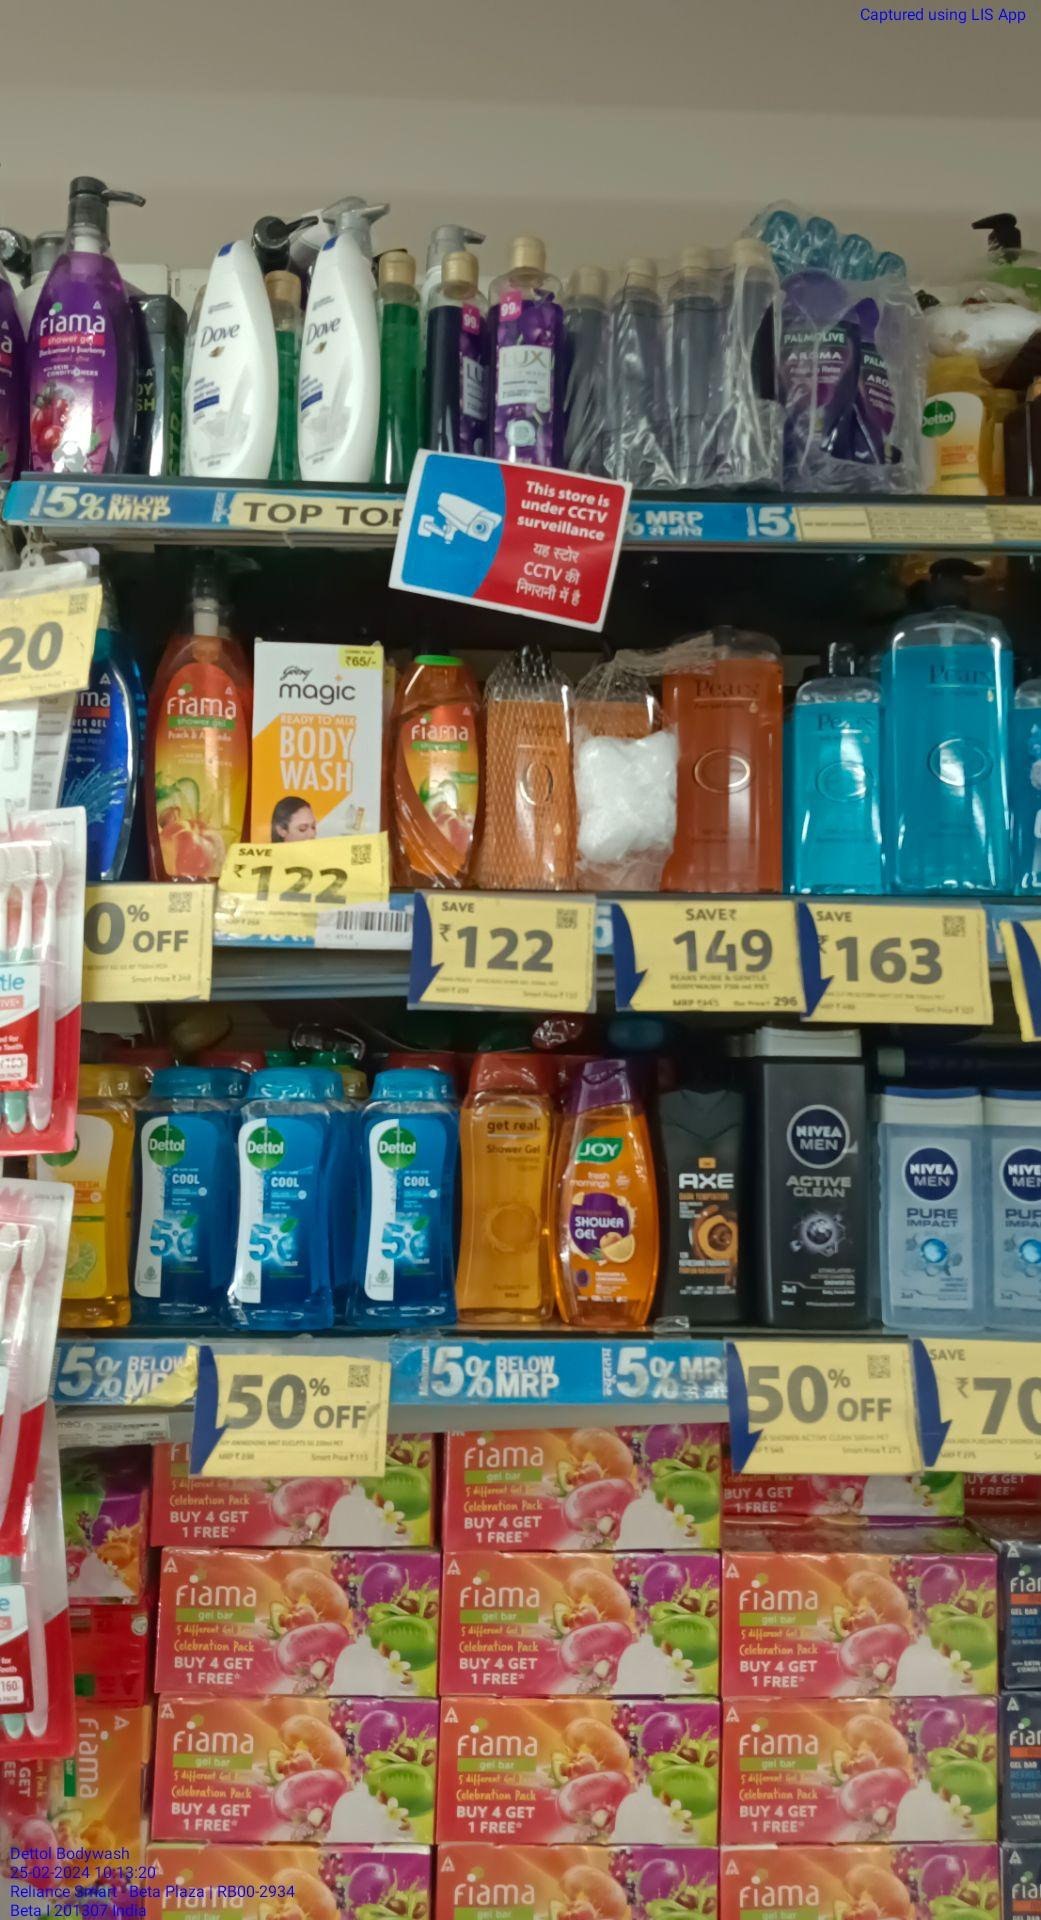Dettol_Bodywash_Cool: (235, 1064, 338, 1324), (355, 1072, 454, 1327), (141, 1075, 227, 1324)
Fiama_Shower_Gel_Peach_and_Avocado_250ML: (395, 652, 482, 888)
Get_Real_Shower_Gel_Moisturising_Glycerin_300ML: (464, 1046, 554, 1323)
Joy_Shower_Gel_Mandarin_and_Lemongrass_250ML: (560, 1056, 663, 1324)
Pears_Pure_Glycerin_and_Mint_Extracts_Body_Wash_250ML: (792, 638, 892, 897)
